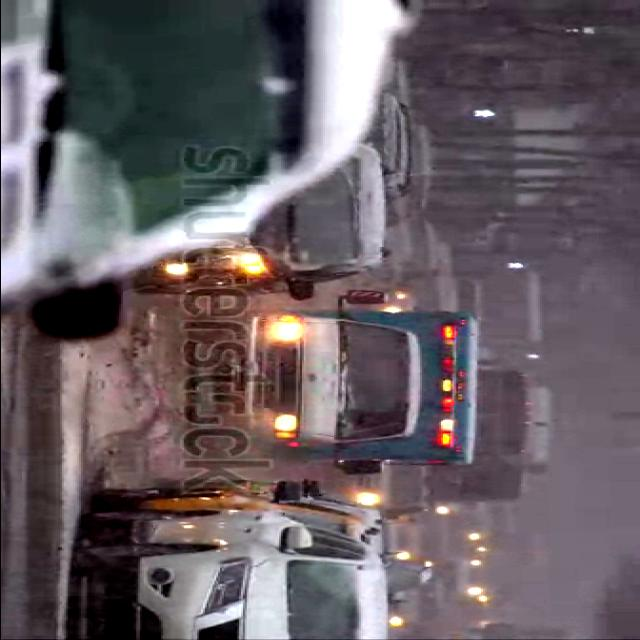ambulance: (185, 298, 480, 476)
